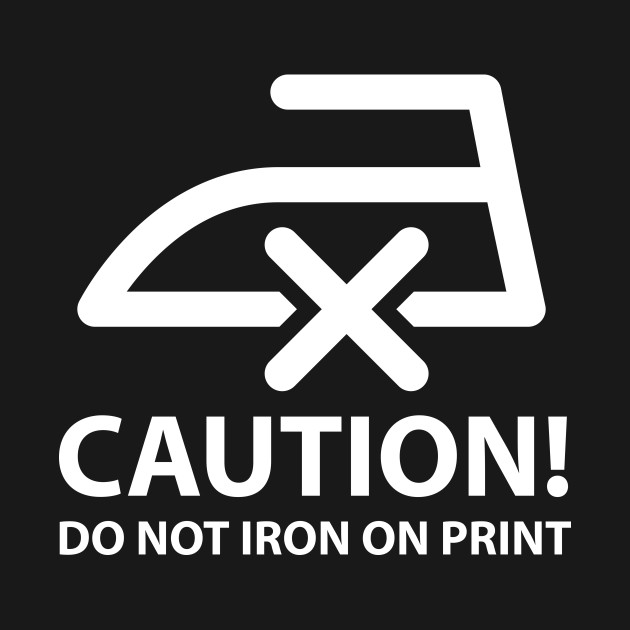do_not_iron: (76, 70, 550, 392)
